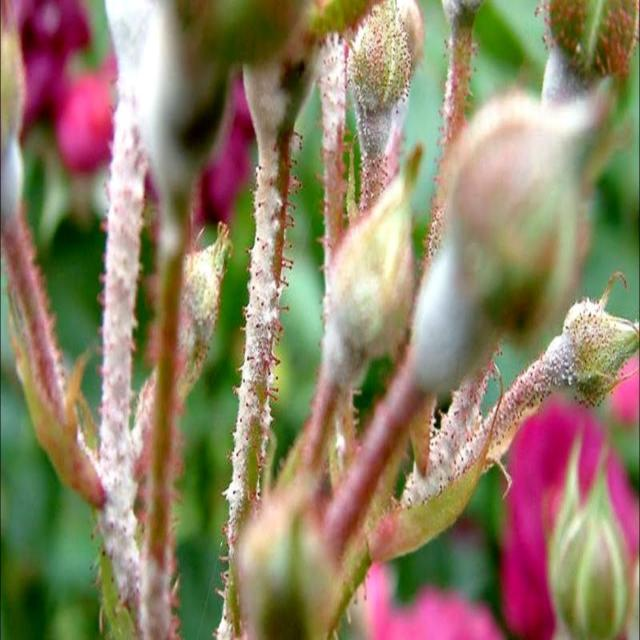Leaf_Mold: (41, 52, 640, 590)
